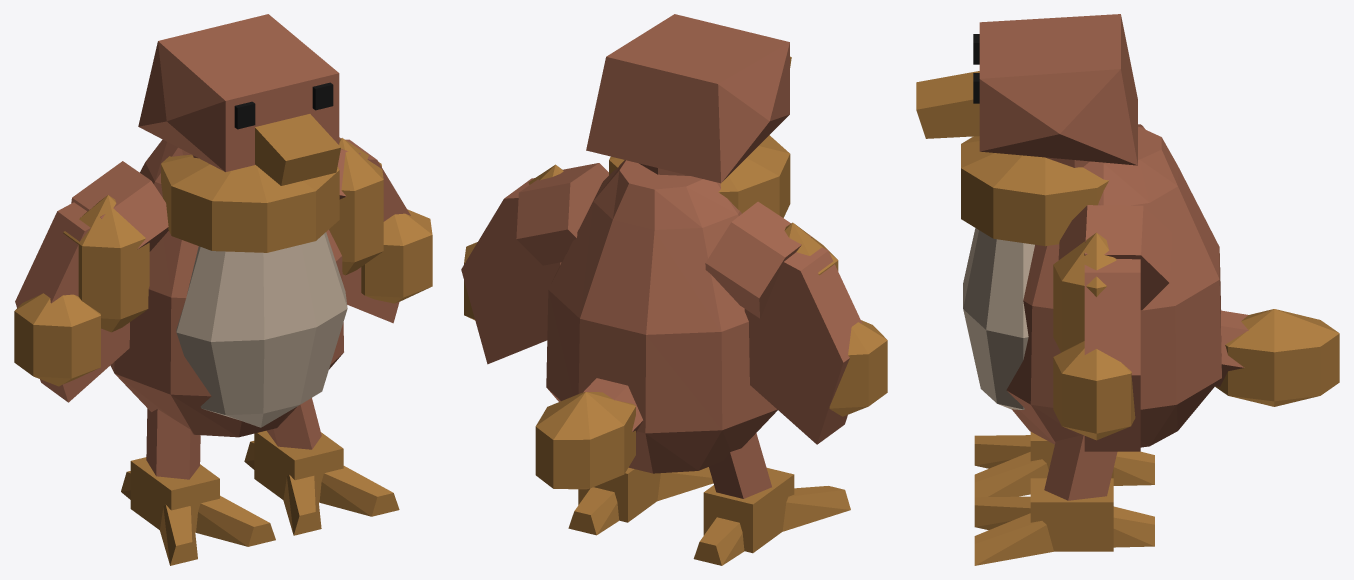
File: coppuff.glb
3 renders of one model, left to right at view 1: azimuth 30°, elevation 25°; view 2: azimuth 150°, elevation 25°; view 3: azimuth 270°, elevation 25°, orthographic. The views are drawn at different scales.
Parts seen in each view (by area): view 1: Coppuff; view 2: Coppuff; view 3: Coppuff.
Boxes of the visible parts, <box> form: Coppuff: <box>14,14,432,565</box>; Coppuff: <box>461,14,887,565</box>; Coppuff: <box>916,14,1339,565</box>.
Size of the model in its own units: 0.52 by 0.56 by 0.46.
